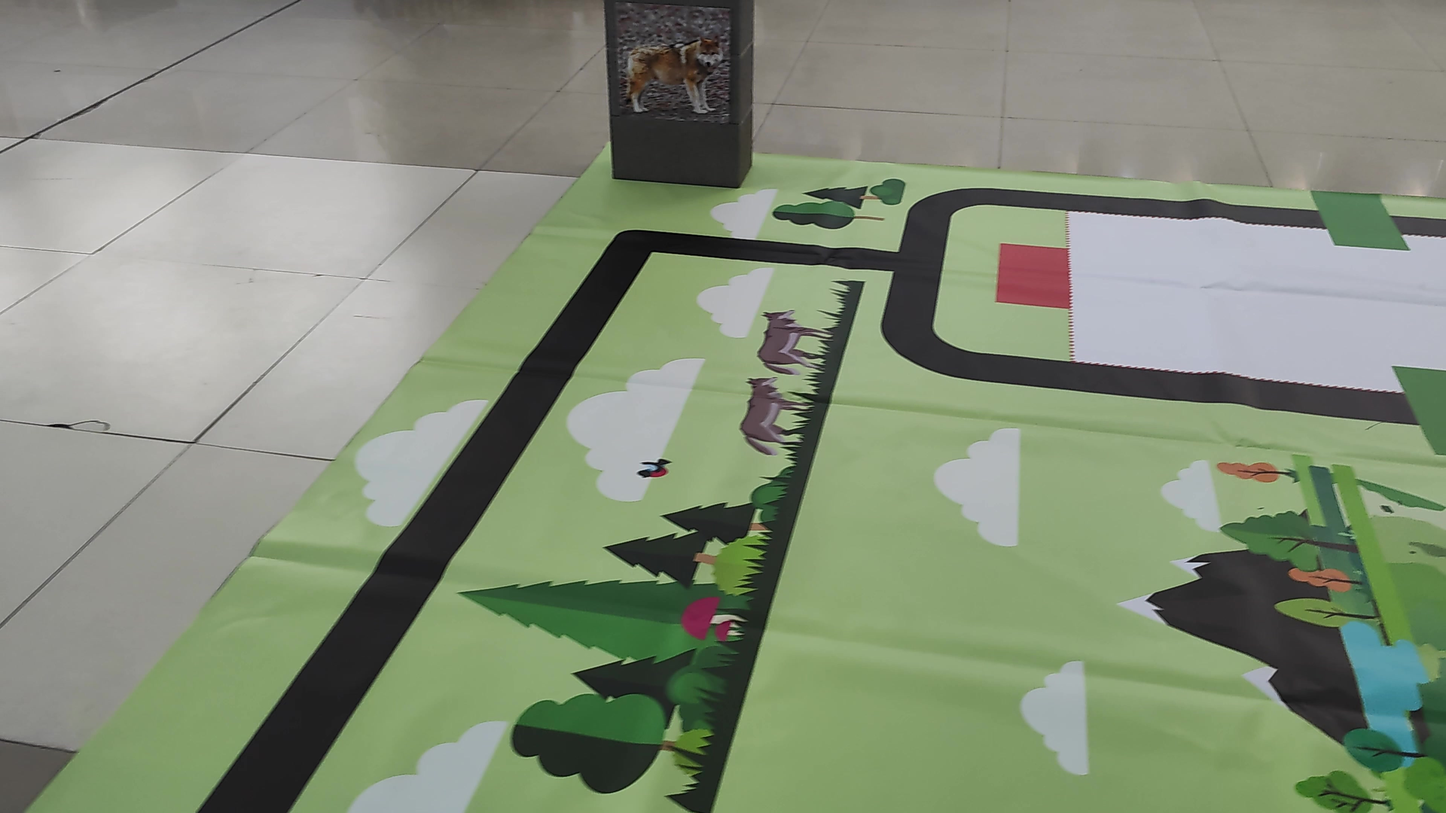wolf: (609, 21, 725, 114)
